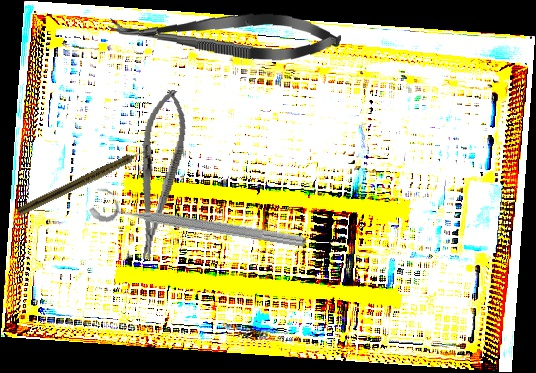Fixation Ring: (87, 184, 310, 254)
Handpiece: (16, 145, 151, 219)
Micro Scissor: (106, 4, 343, 65)
Needle Holder: (123, 86, 194, 263)
